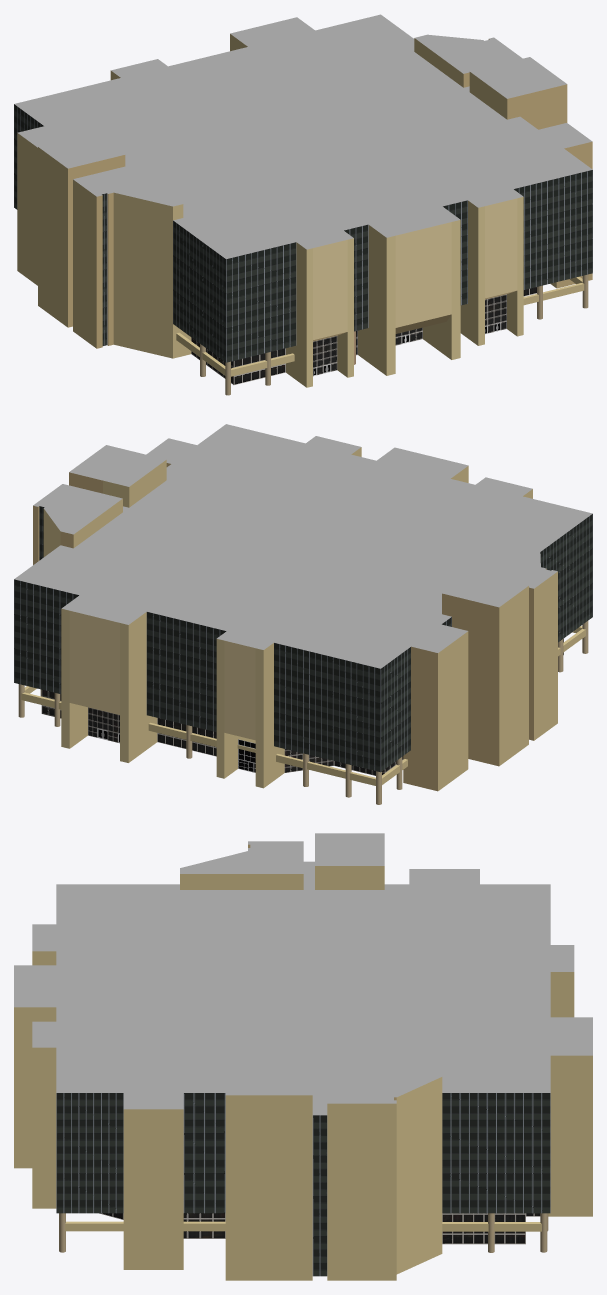
Rendered from Shopping-01.fbx.
3 renders of one model, top to bottom at view 1: azimuth 30°, elevation 25°; view 2: azimuth 150°, elevation 25°; view 3: azimuth 270°, elevation 25°, orthographic. The views are drawn at different scales.
Parts seen in each view (by area): view 1: Shopping-01; view 2: Shopping-01; view 3: Shopping-01.
Part boxes in pixels (x1,y1,x2,y2): Shopping-01: [14, 14, 592, 395]; Shopping-01: [14, 424, 592, 804]; Shopping-01: [14, 833, 592, 1280].
Size of what is drawn, in the model's own units: 104 by 34.29 by 97.13.
